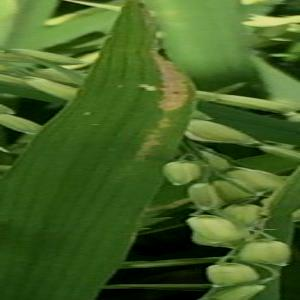2 BacterialBlight: (80, 10, 189, 165)
